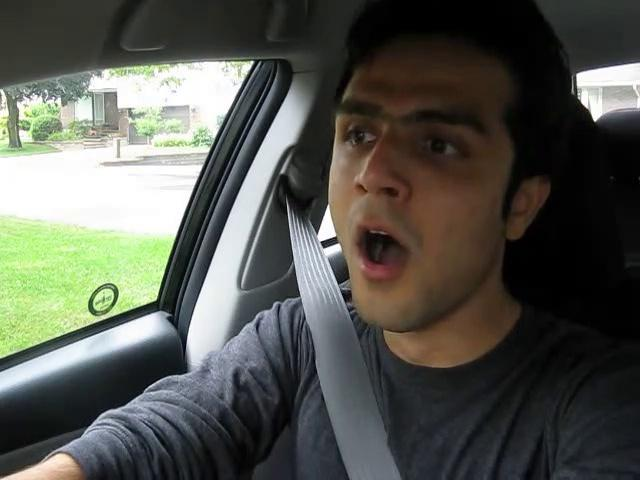open_eyeL: (328, 115, 395, 159)
open_eyeR: (399, 120, 489, 175)
yawn: (335, 210, 433, 288)
